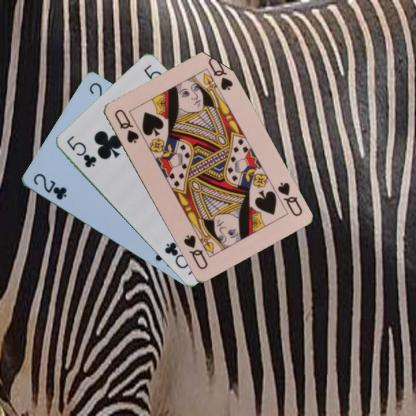2c: (30, 171, 68, 202)
5c: (64, 133, 98, 169)
Qs: (274, 179, 304, 218), (111, 106, 140, 144)
